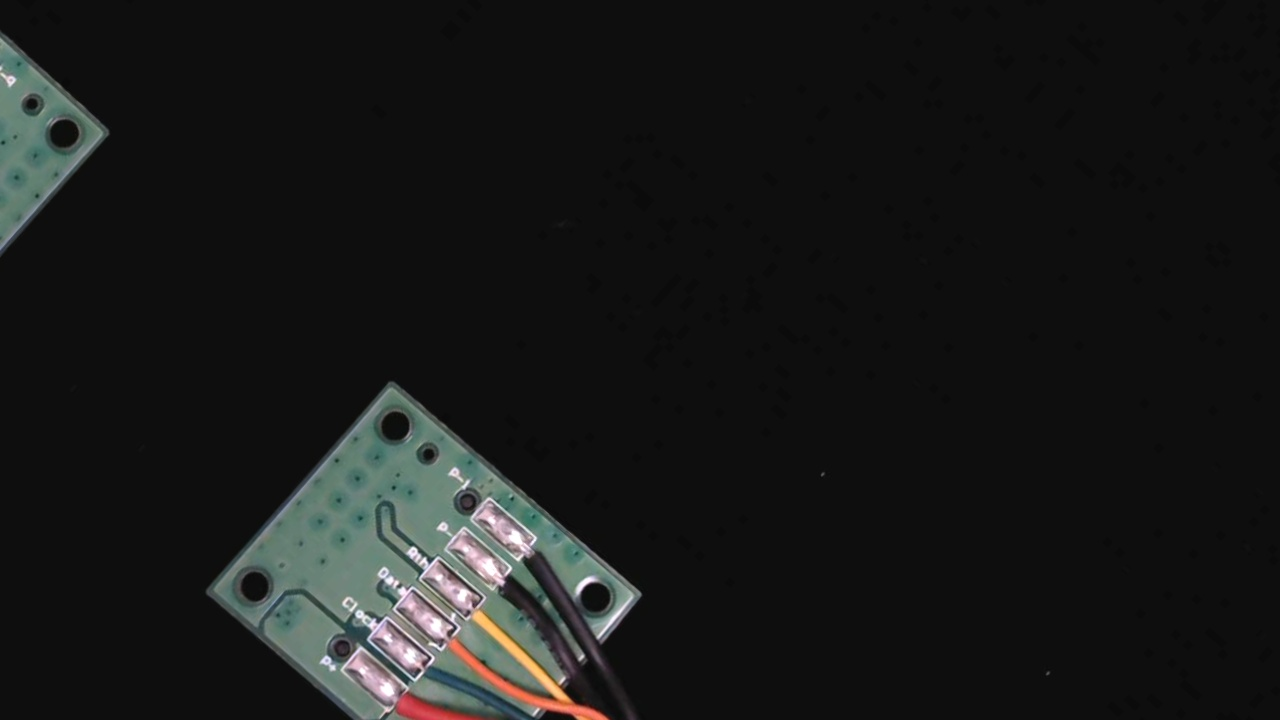Black: (483, 560, 547, 621)
Black1: (507, 529, 572, 591)
Green: (403, 649, 467, 711)
Orange: (431, 621, 494, 680)
Red: (376, 679, 444, 720)
Yellow: (456, 589, 524, 655)
